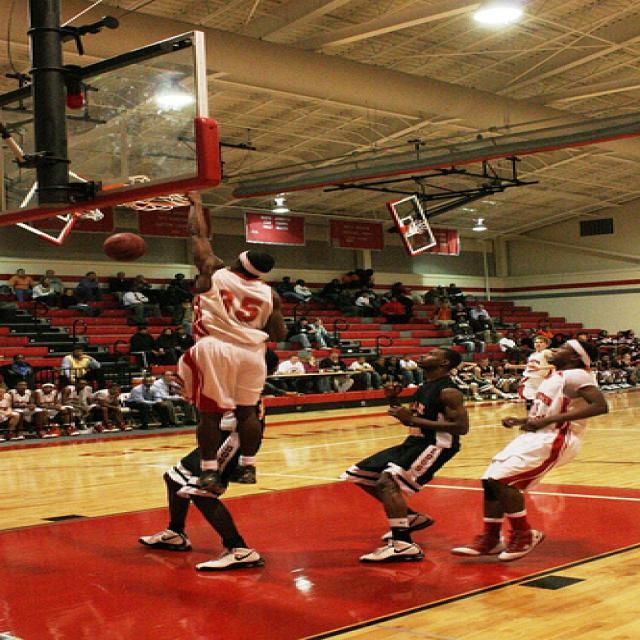basketball: (102, 232, 148, 260)
rim: (104, 182, 200, 208), (406, 218, 430, 236)
